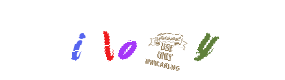0: (123, 0, 203, 80)
I: (67, 0, 147, 80)
L: (68, 0, 148, 80)
O: (101, 0, 181, 80)
Y: (153, 0, 233, 80)
